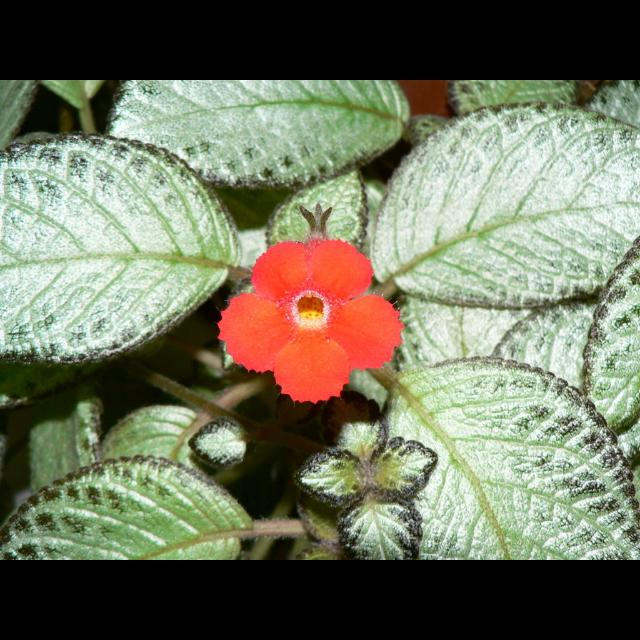Flower: (215, 210, 391, 402)
